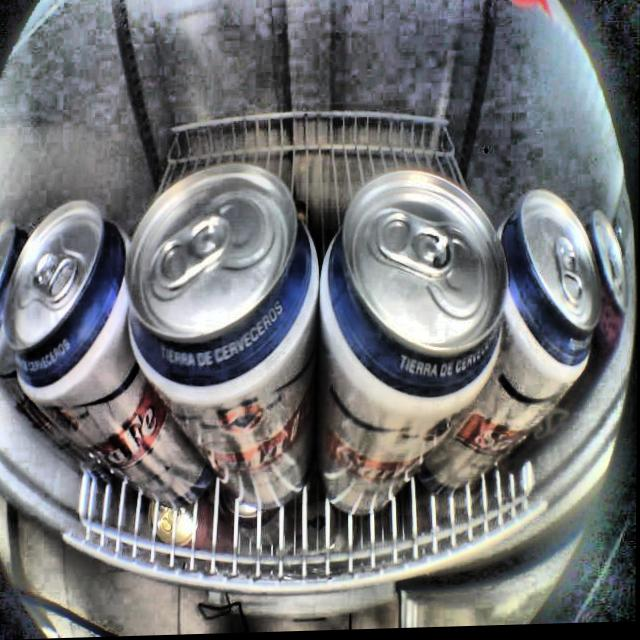can: (306, 147, 513, 534), (6, 192, 230, 524), (125, 157, 324, 528), (448, 185, 611, 506), (0, 212, 69, 478), (588, 210, 639, 332)
